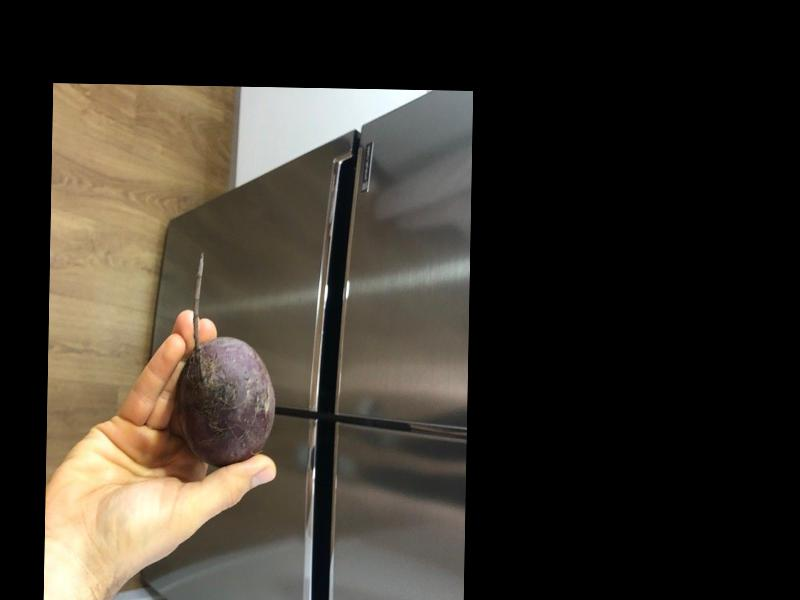Beet: (176, 251, 278, 466)
